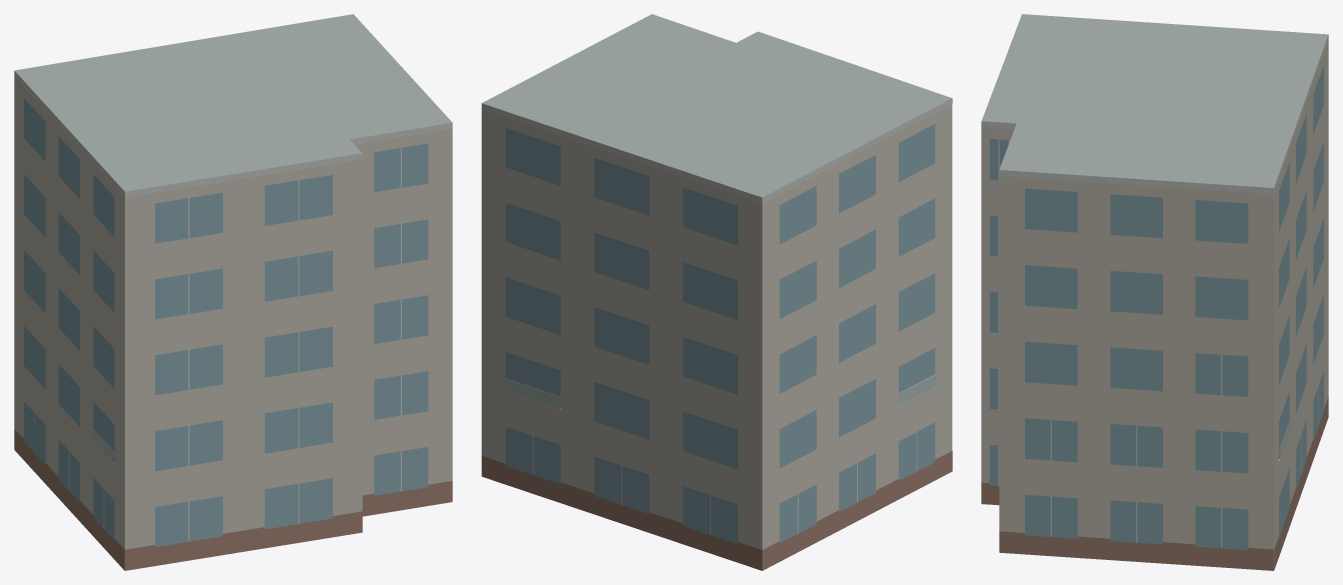
Rendered from survey-upis-32670327.glb.
3 views of the same model, side by side, from view 1: azimuth 30°, elevation 25°; view 2: azimuth 150°, elevation 25°; view 3: azimuth 270°, elevation 25° (orthographic). The views are drawn at different scales.
Parts seen in each view (by area): view 1: survey-upis-32670327.tmp; view 2: survey-upis-32670327.tmp; view 3: survey-upis-32670327.tmp.
Boxes of the visible parts, x1=… form: survey-upis-32670327.tmp: x1=14, y1=14, x2=452, y2=570; survey-upis-32670327.tmp: x1=481, y1=14, x2=952, y2=570; survey-upis-32670327.tmp: x1=981, y1=14, x2=1328, y2=570.
Size of the model in its own units: 14.88 by 15.25 by 12.54.
